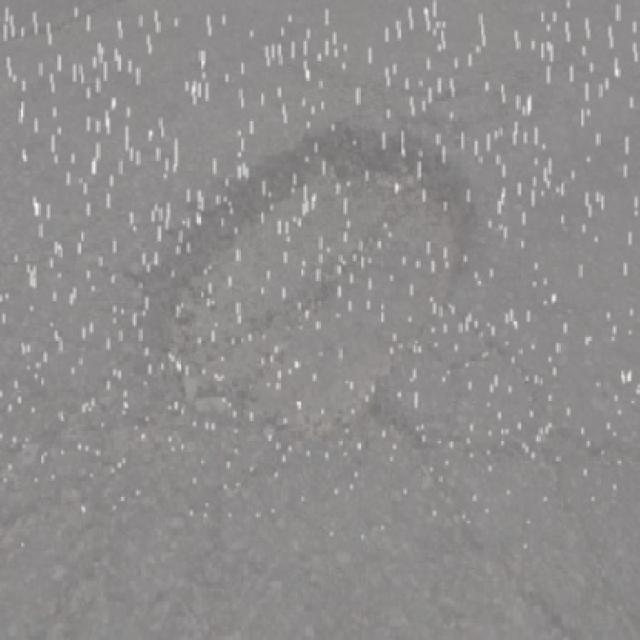Pothole: (118, 121, 492, 465)
